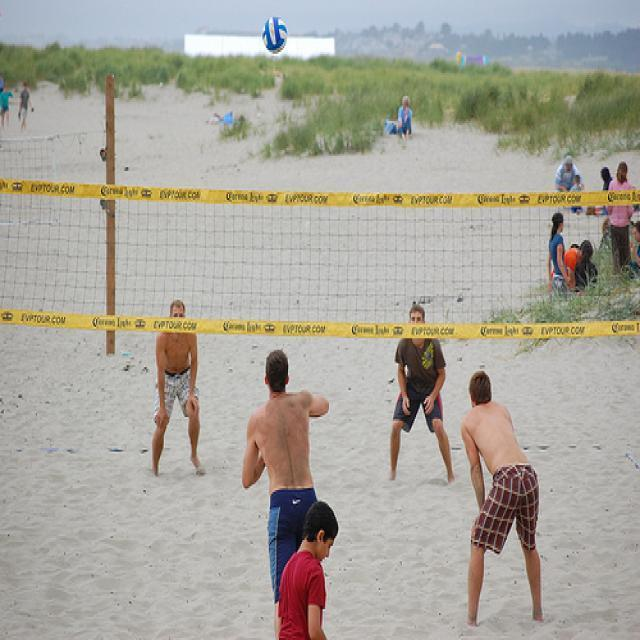volleyball: (262, 16, 286, 54)
